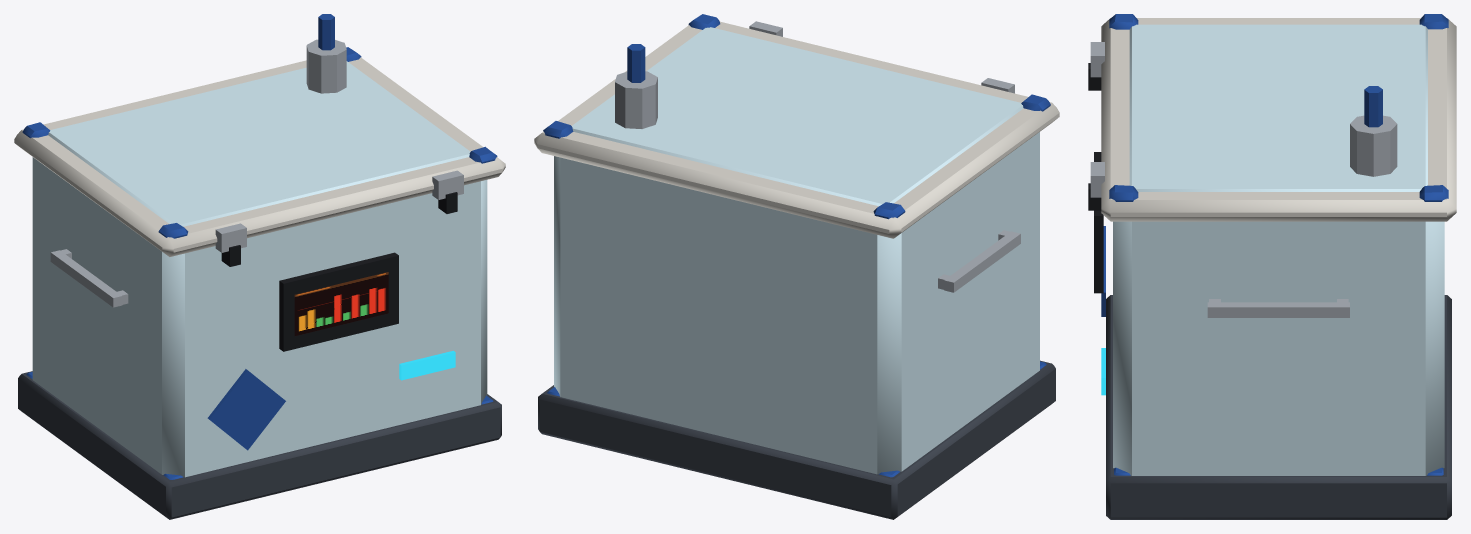
The model's file is crate_cold_chain.glb.
3 views of the same model, side by side, from view 1: azimuth 30°, elevation 25°; view 2: azimuth 150°, elevation 25°; view 3: azimuth 270°, elevation 25° (orthographic). The views are drawn at different scales.
Visible parts, largest first — view 1: crate_cold_chain; view 2: crate_cold_chain; view 3: crate_cold_chain.
Boxes of the visible parts, x1,y1,x2,y2 form: crate_cold_chain: (14,14,505,519); crate_cold_chain: (534,14,1059,519); crate_cold_chain: (1088,14,1456,519).
Size of the model in its own units: 0.985 by 0.93 by 0.777.
Materials: 8 (1 with a texture image).
